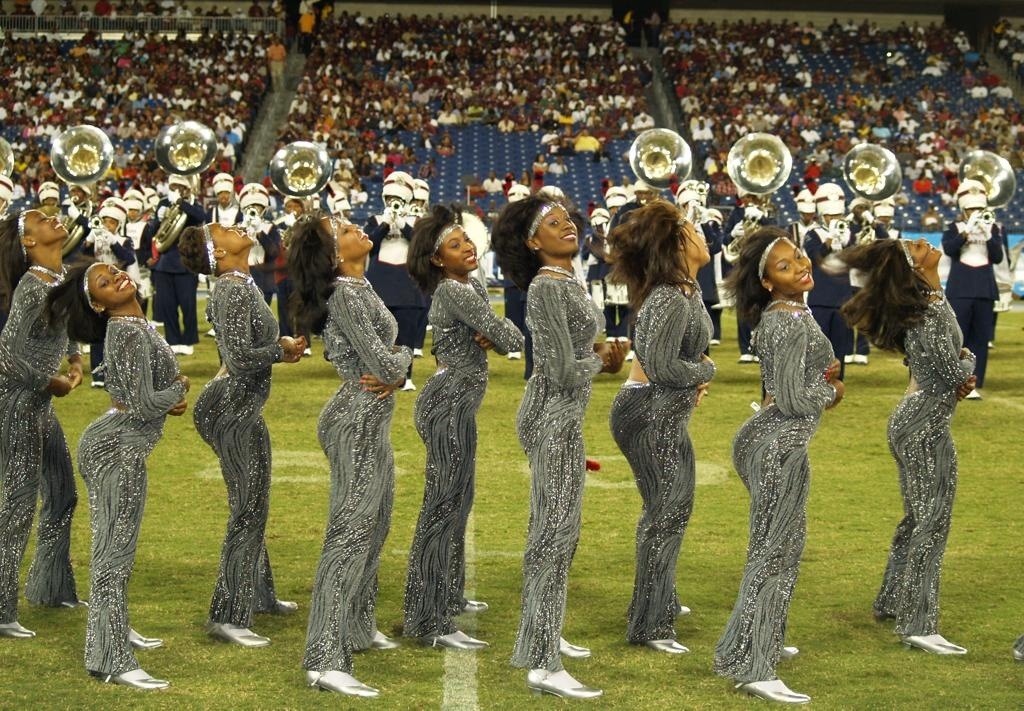human_face: (767, 234, 813, 288), (537, 206, 579, 256), (321, 214, 373, 254), (90, 263, 136, 303), (438, 224, 478, 270), (205, 222, 253, 254), (23, 209, 67, 242), (680, 217, 712, 259), (899, 236, 943, 264), (384, 193, 406, 215), (243, 202, 265, 220), (405, 196, 425, 214), (966, 202, 984, 220), (102, 216, 118, 236), (285, 200, 301, 218), (824, 213, 840, 227), (170, 182, 184, 197), (853, 205, 867, 220), (69, 189, 83, 203), (42, 198, 58, 210), (216, 191, 230, 203), (126, 208, 138, 218), (803, 212, 813, 222)
